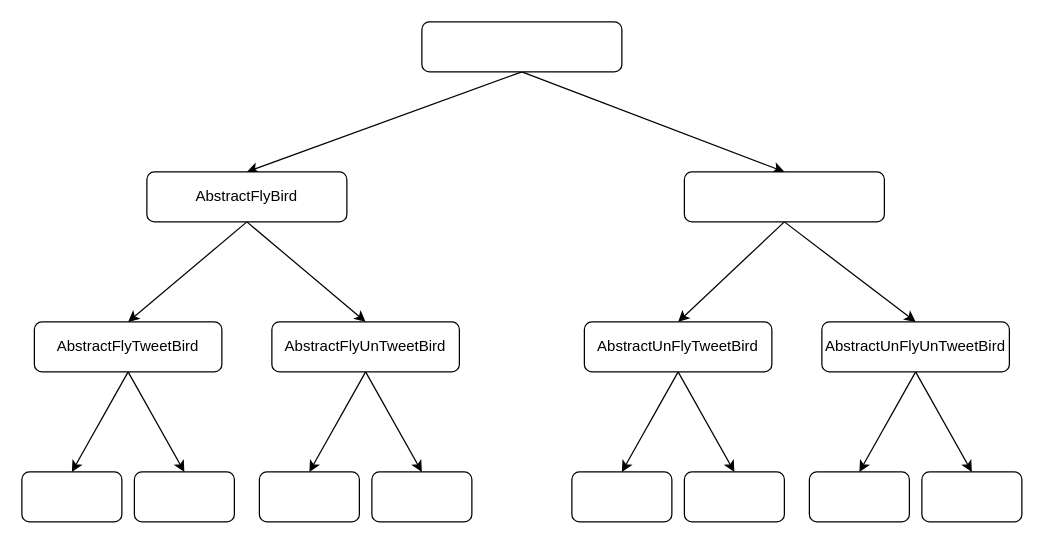
The diagram is 1044 pixels wide and 544 high, and some of its shapes have lost their labels. The shapes that lost their labels are listed below. From the top down, each one's box as (x1, y1, x2, y2) in pixels, then its label:
(421, 21, 622, 72): AbstractBird
(683, 171, 884, 222): AbstractUnFlyBird
